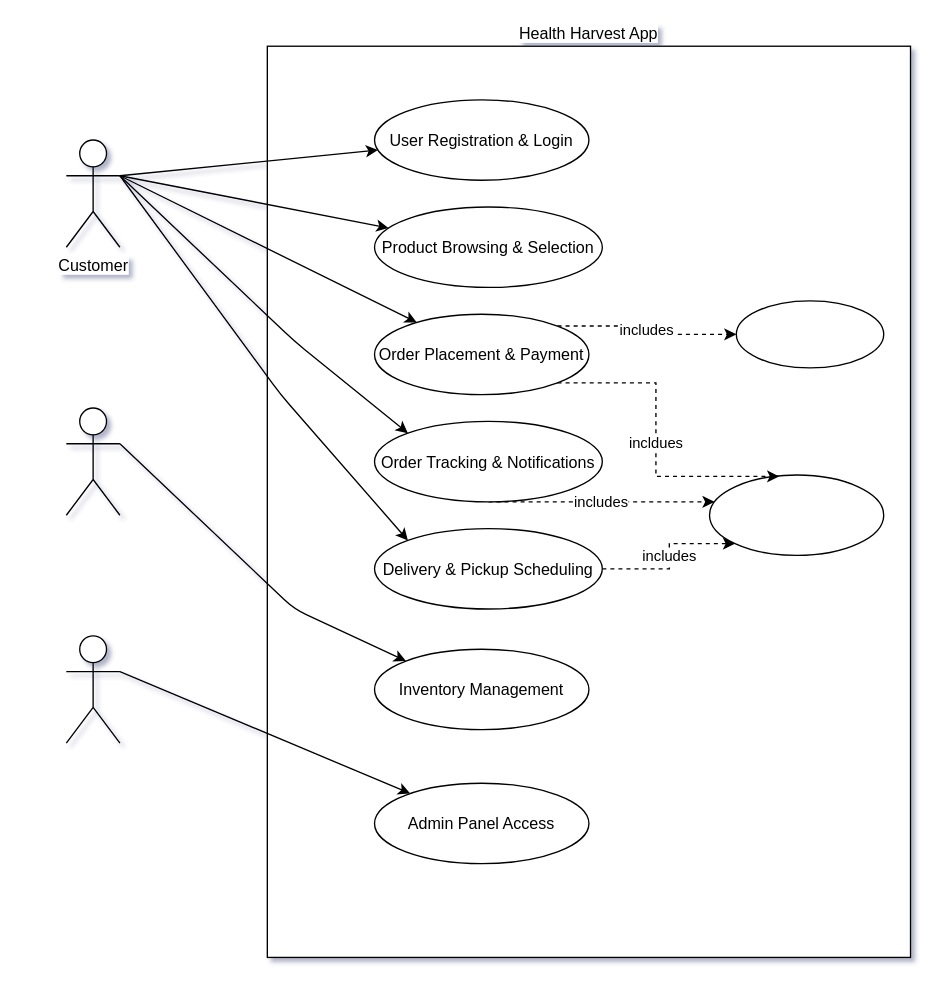
The diagram is 942 pixels wide and 989 high, and some of its shapes have lost their labels. Here are the shapes that lost their labels. From the top down, the centre of each, then its label:
the point at 809,333: View Cart
the point at 92,461: Store Employee
the point at 796,514: View Account
the point at 92,688: Store Admin/Owner
